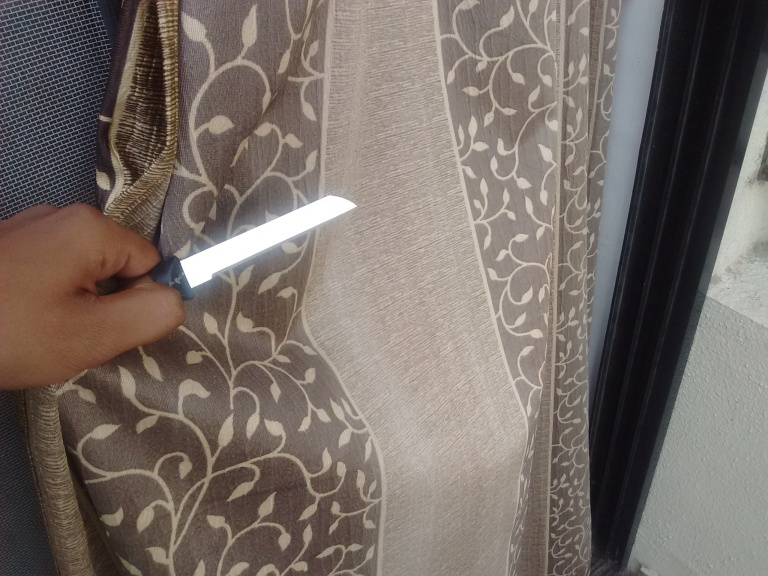knife: (174, 193, 357, 290)
